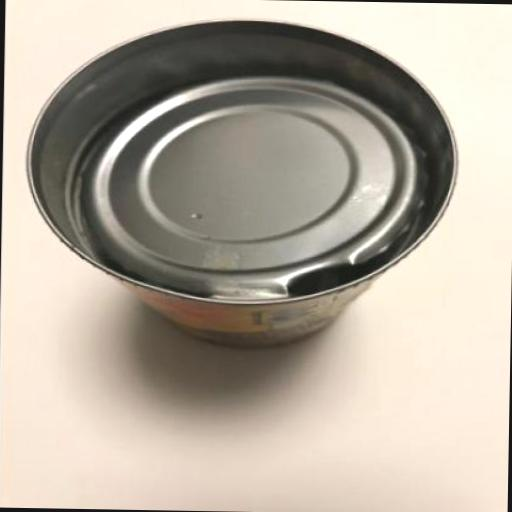metal: (20, 14, 459, 352)
